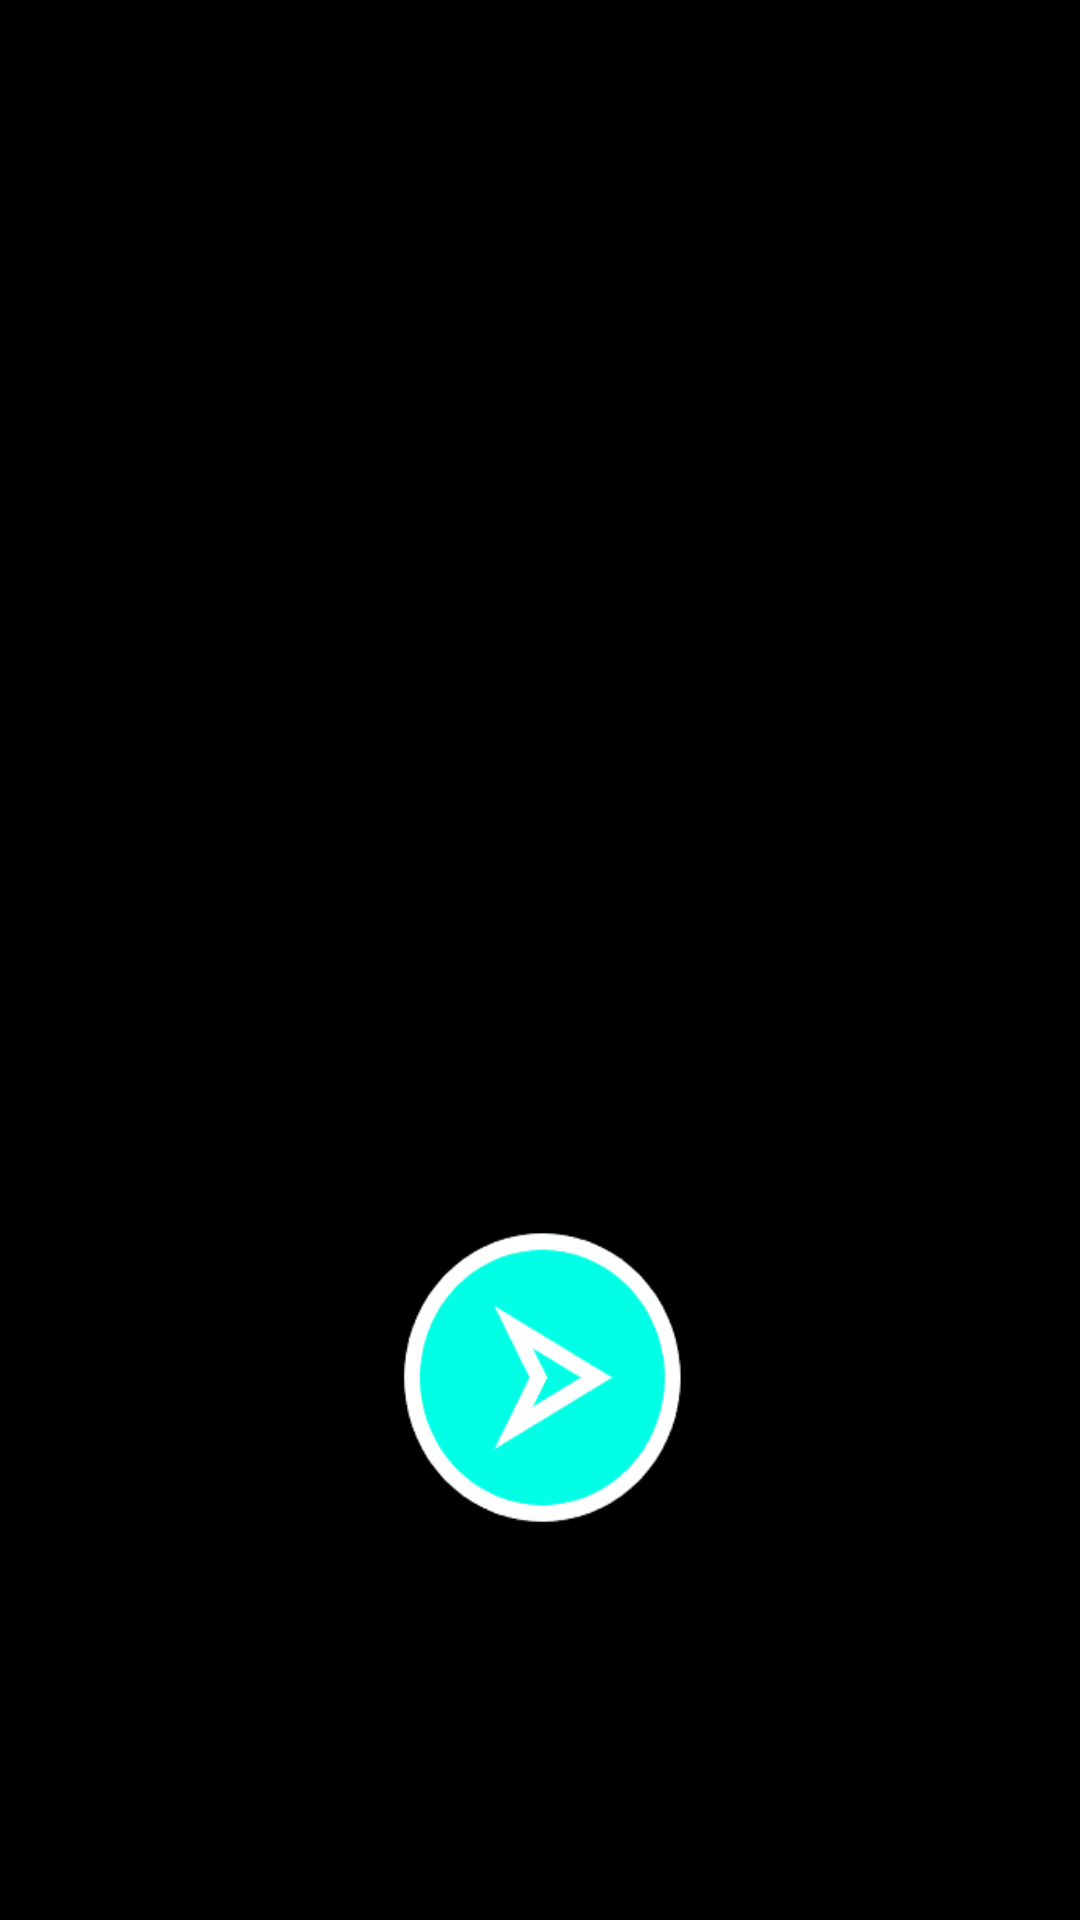

Icon click points for this 1080*1920 phone screenshot, format (x,y):
play start: (542,1377)
